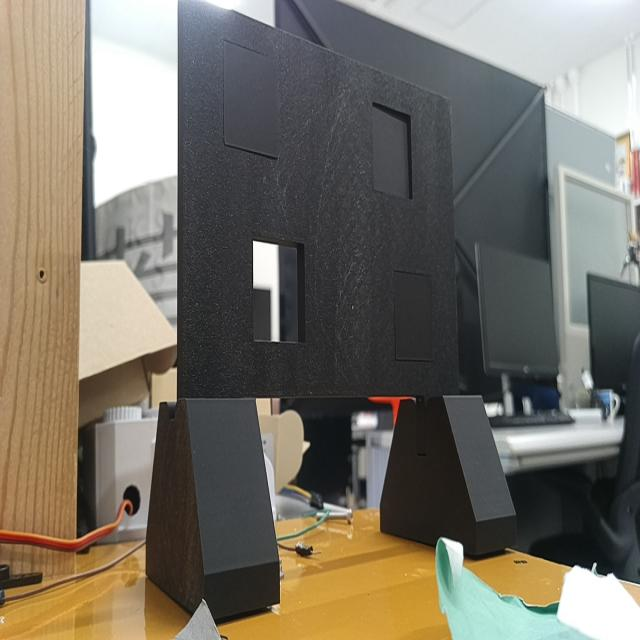Obstacle: (254, 230, 306, 345), (372, 101, 412, 198)
Wall: (182, 1, 460, 399)
